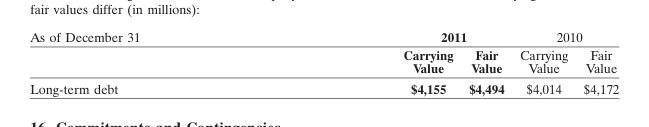table: (29, 28, 618, 96)
table column: (29, 28, 271, 96), (271, 28, 460, 96), (511, 28, 575, 96), (460, 28, 511, 96), (575, 28, 618, 96)
table column header: (29, 28, 618, 77)
table row: (29, 45, 618, 77), (29, 77, 618, 96), (29, 28, 618, 45)
table spanning cell: (29, 28, 271, 77), (271, 28, 511, 45), (511, 28, 618, 45)
